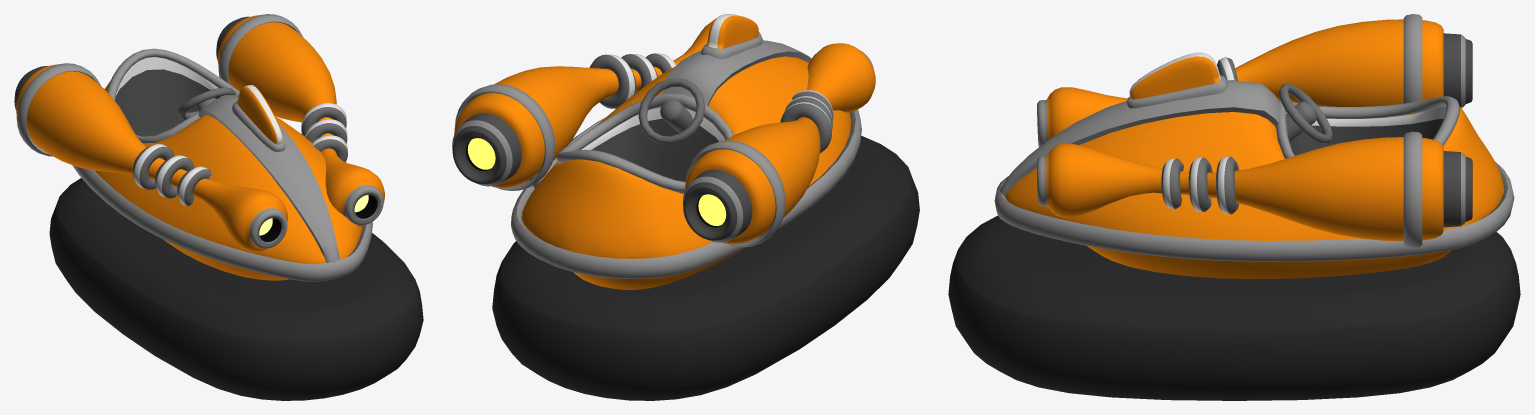
The model's file is mesh_Car_Menu_L.fbx.
3 renders of one model, left to right at view 1: azimuth 30°, elevation 25°; view 2: azimuth 150°, elevation 25°; view 3: azimuth 270°, elevation 25°, orthographic. The views are drawn at different scales.
Parts seen in each view (by area): view 1: mesh_Car_Menu_L; view 2: mesh_Car_Menu_L; view 3: mesh_Car_Menu_L.
Part boxes in pixels (box(x1,y1,x2,y2)): mesh_Car_Menu_L: box(14, 14, 423, 400); mesh_Car_Menu_L: box(452, 14, 919, 400); mesh_Car_Menu_L: box(948, 14, 1520, 400).
Bounding box in the file's own units: 2.05 × 1.69 × 2.97.
